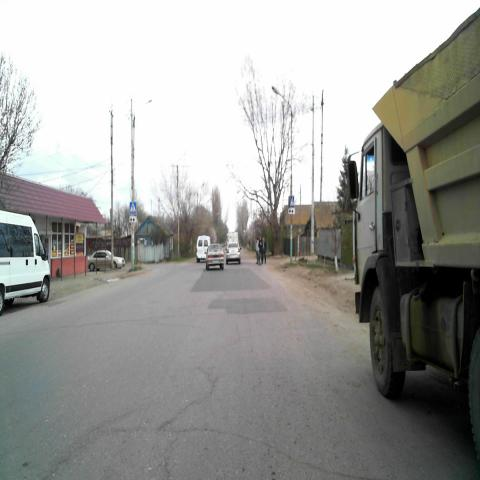5_19_1: (130, 201, 136, 215), (288, 195, 294, 207)
8_15: (129, 216, 136, 223)
